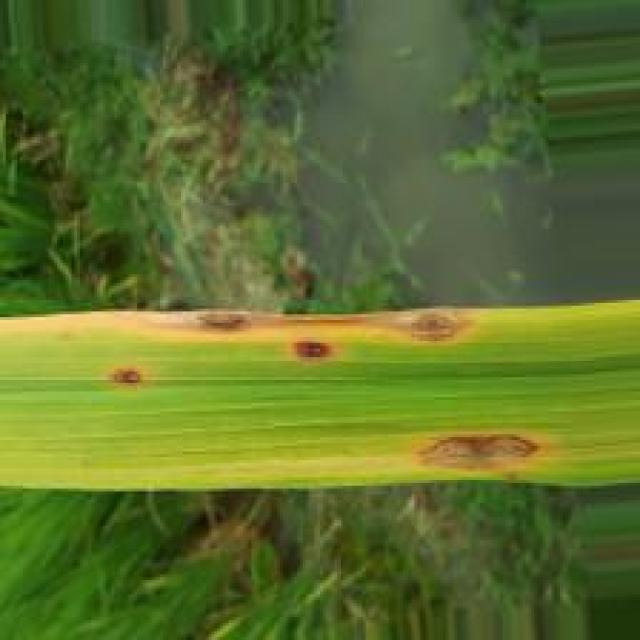Narrow_Brown_Leaf_Spot: (117, 304, 482, 367), (399, 427, 546, 483), (110, 365, 153, 389)
